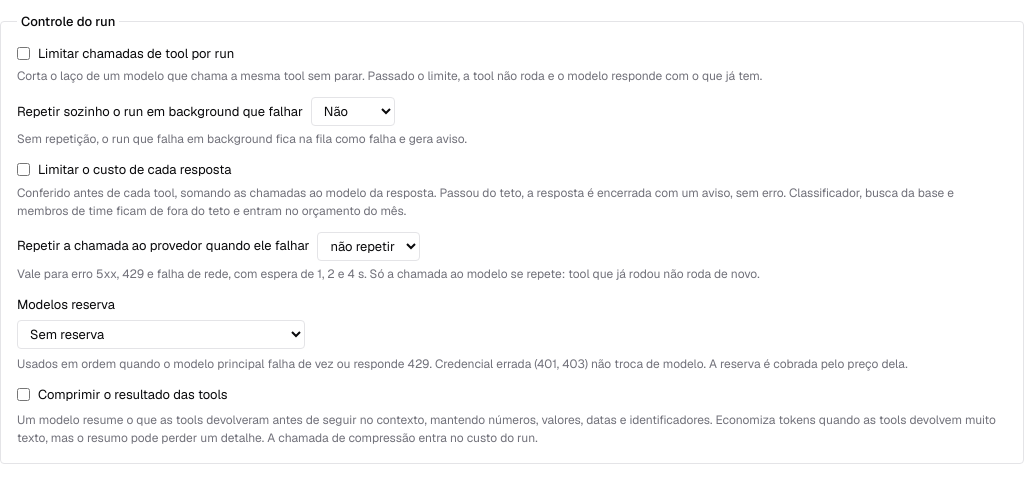
Scenario: retry no controle do run e aviso por e-mail › liga a repetição e avisa do risco
This screenshot has width=1024, height=481.
Select "1 vez" in the dropdown named "Repetições do run em background". click: (353, 112)
box: [311,97,395,126]
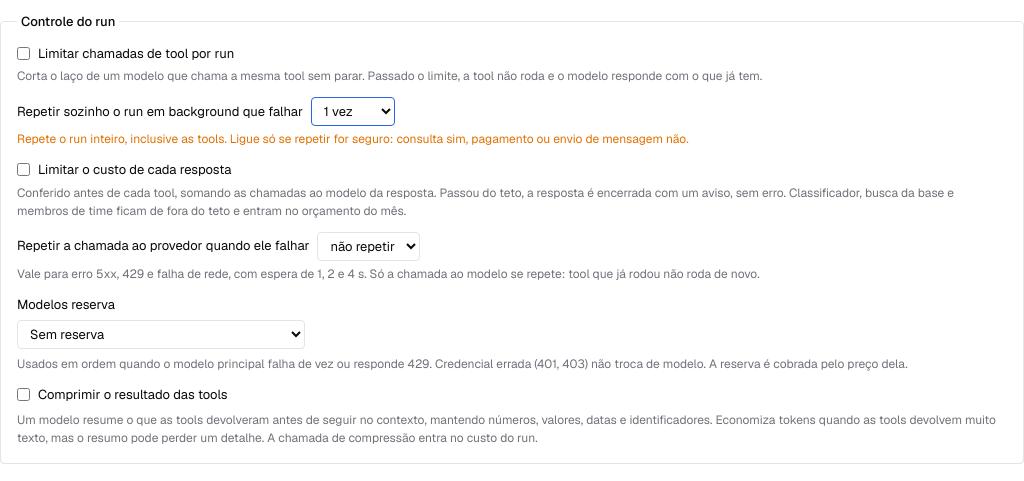
expect the text "pagamento ou envio de mensagem não" is shown: met, box [17,131,689,147]
